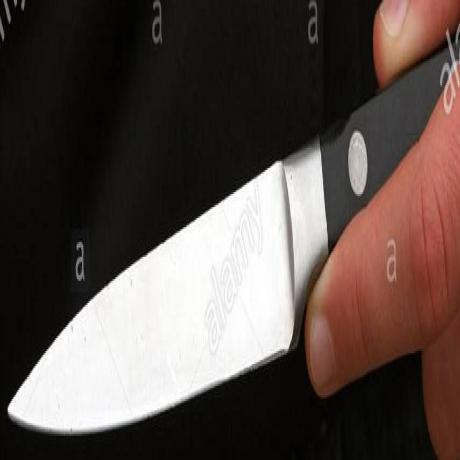weapon: (7, 106, 340, 455)
